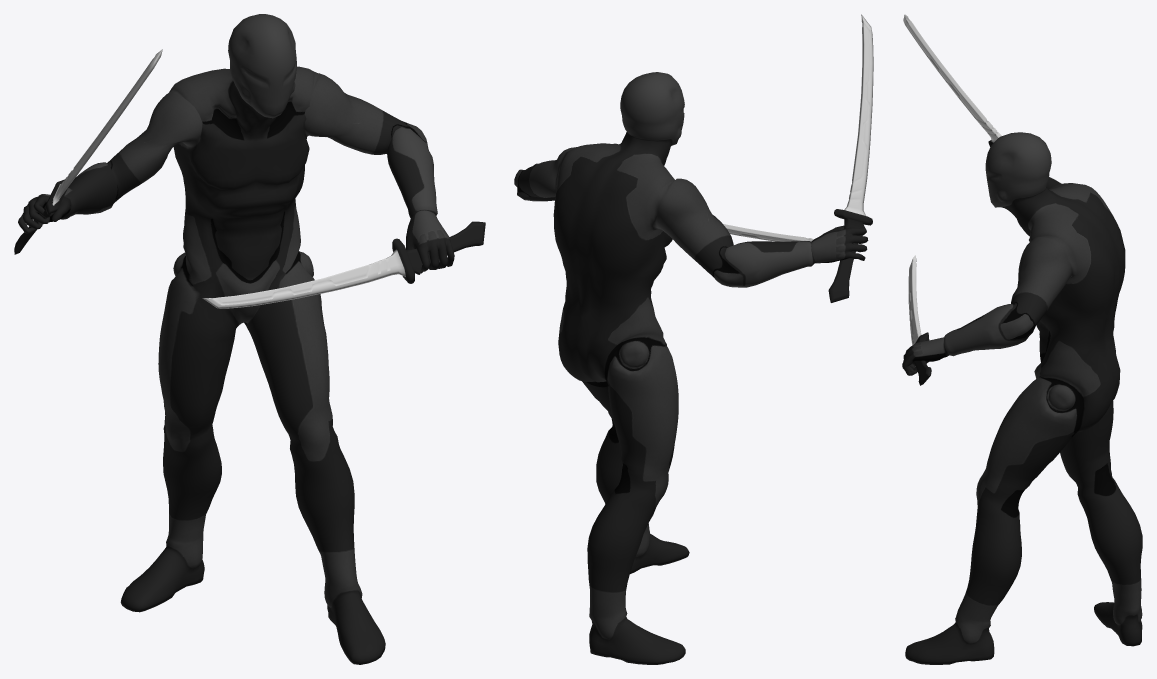
3 renders of one model, left to right at view 1: azimuth 30°, elevation 25°; view 2: azimuth 150°, elevation 25°; view 3: azimuth 270°, elevation 25°, orthographic. The views are drawn at different scales.
Parts seen in each view (by area): view 1: Cyborg_Ninja_Killer, Sword_l, Sword_l001; view 2: Cyborg_Ninja_Killer, Sword_l001, Sword_l; view 3: Cyborg_Ninja_Killer, Sword_l001, Sword_l.
Part boxes in pixels (bbox=[...]): Cyborg_Ninja_Killer: bbox=[18, 14, 454, 664]; Sword_l: bbox=[202, 221, 485, 308]; Sword_l001: bbox=[14, 49, 162, 254]; Cyborg_Ninja_Killer: bbox=[514, 72, 868, 664]; Sword_l001: bbox=[828, 14, 873, 302]; Sword_l: bbox=[723, 224, 813, 241]; Cyborg_Ninja_Killer: bbox=[902, 132, 1142, 664]; Sword_l001: bbox=[903, 14, 1001, 146]; Sword_l: bbox=[908, 255, 931, 385].
Bounding box in the file's own units: 126 × 196 × 76.
Materials: 2 (2 with a texture image).
